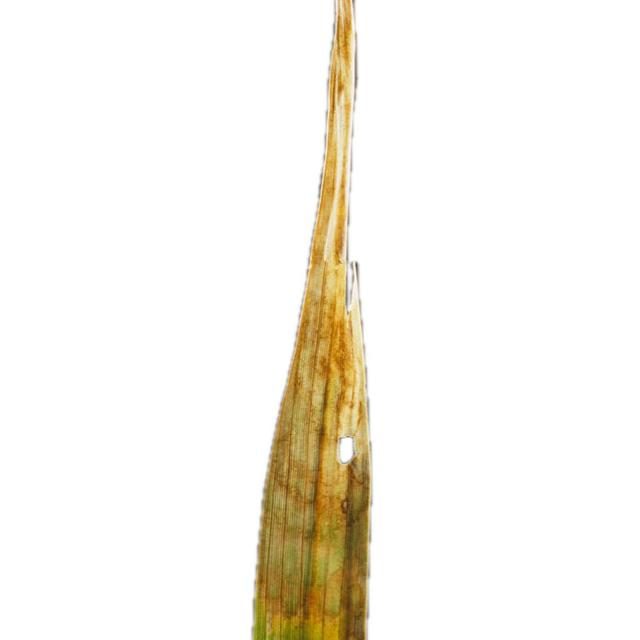Leaf scald: (194, 0, 538, 640)
